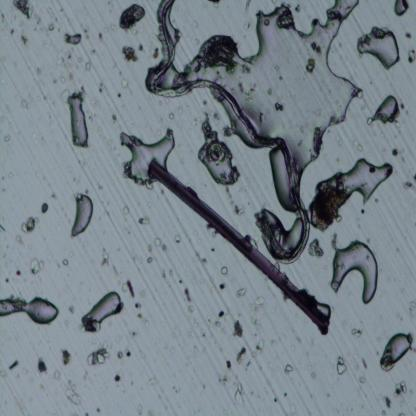Air bubble: (206, 1, 363, 155), (329, 237, 379, 304), (116, 129, 170, 186), (332, 159, 392, 209), (195, 122, 240, 184), (356, 25, 402, 70), (0, 293, 59, 323), (82, 289, 123, 323), (68, 90, 91, 147), (379, 333, 414, 367), (70, 193, 95, 239), (370, 92, 402, 126), (65, 28, 82, 46), (394, 0, 410, 18)
Background material: (204, 35, 237, 72), (119, 3, 146, 30), (63, 380, 83, 409), (89, 344, 112, 367), (56, 45, 76, 67), (275, 10, 296, 30), (15, 1, 34, 22), (308, 239, 324, 261), (120, 45, 139, 63), (236, 82, 254, 100), (392, 381, 409, 399), (334, 356, 349, 376), (235, 382, 247, 406), (29, 256, 45, 274), (22, 216, 37, 235), (324, 9, 343, 23), (98, 246, 110, 267), (232, 318, 244, 338), (47, 6, 60, 24), (251, 338, 264, 356), (18, 26, 29, 47), (125, 279, 136, 300), (249, 306, 260, 326), (181, 284, 193, 302), (34, 14, 45, 33), (235, 346, 246, 365), (231, 201, 244, 217), (61, 349, 72, 367), (349, 325, 363, 339), (38, 357, 48, 375), (235, 286, 248, 299), (255, 110, 267, 124), (407, 46, 416, 64), (60, 88, 70, 104), (218, 279, 229, 293), (0, 11, 8, 30), (254, 296, 266, 308), (225, 186, 233, 204), (217, 372, 227, 386), (135, 216, 150, 225), (273, 101, 285, 112), (389, 145, 400, 157), (310, 41, 321, 53), (19, 99, 32, 109), (122, 203, 132, 216), (284, 363, 294, 376), (152, 45, 160, 61), (220, 262, 229, 276), (382, 394, 391, 408), (83, 27, 91, 42), (8, 360, 18, 372), (192, 252, 204, 262), (306, 60, 316, 72), (40, 202, 50, 214), (4, 130, 13, 143), (361, 357, 369, 371), (121, 76, 129, 90), (356, 374, 366, 385), (404, 180, 414, 191), (75, 54, 82, 69), (112, 263, 120, 276), (0, 220, 7, 234), (289, 404, 297, 416), (218, 308, 226, 320), (95, 180, 103, 192), (91, 98, 99, 110), (226, 358, 234, 370), (208, 0, 220, 8), (0, 365, 7, 378), (34, 80, 44, 89), (47, 22, 56, 32), (186, 304, 195, 314), (206, 315, 214, 326), (14, 233, 22, 244), (68, 249, 76, 260), (404, 29, 412, 40), (111, 112, 119, 123), (67, 303, 75, 314), (293, 2, 301, 13), (36, 384, 47, 392), (242, 20, 251, 29), (58, 73, 66, 83), (124, 348, 132, 358), (154, 236, 162, 246), (97, 82, 103, 95), (137, 405, 144, 416), (306, 362, 314, 371), (7, 26, 15, 35), (68, 70, 74, 82), (136, 43, 145, 51), (55, 370, 64, 378), (108, 23, 117, 31), (174, 234, 181, 244), (245, 360, 251, 371), (200, 327, 206, 338), (84, 367, 89, 380), (245, 0, 250, 13), (34, 68, 42, 76), (297, 126, 305, 134), (146, 256, 154, 264), (168, 113, 176, 121), (8, 14, 17, 21), (172, 384, 178, 394), (176, 106, 182, 116), (147, 244, 153, 254), (86, 63, 92, 73), (296, 335, 304, 342), (135, 302, 142, 310), (122, 284, 129, 292), (51, 192, 58, 200), (212, 112, 219, 120), (6, 170, 13, 178), (266, 87, 273, 95), (15, 268, 22, 276), (114, 375, 122, 382), (168, 267, 173, 278), (290, 343, 296, 352), (42, 93, 48, 102), (117, 350, 123, 359), (107, 136, 112, 146), (98, 31, 103, 41), (52, 77, 59, 84), (139, 290, 146, 297), (129, 29, 136, 36), (161, 242, 167, 250), (274, 62, 280, 70), (341, 318, 347, 326), (62, 258, 68, 266), (160, 270, 166, 278), (264, 19, 270, 27), (159, 186, 165, 194), (149, 378, 155, 386), (85, 187, 90, 196), (156, 127, 161, 136), (193, 321, 199, 328), (215, 320, 221, 327), (42, 41, 48, 48), (140, 353, 146, 360), (4, 276, 11, 282), (131, 330, 138, 336), (194, 344, 199, 352), (144, 318, 149, 326), (273, 396, 278, 404), (208, 275, 213, 283), (12, 60, 17, 68), (137, 312, 143, 318), (270, 337, 274, 346), (268, 362, 274, 368), (194, 228, 198, 237), (278, 75, 284, 81), (71, 176, 77, 182), (94, 407, 100, 413), (37, 94, 43, 100), (399, 411, 406, 416), (115, 336, 120, 343), (249, 389, 254, 396), (336, 216, 341, 223), (202, 382, 206, 390), (270, 0, 278, 4), (298, 139, 302, 147), (362, 208, 366, 216), (382, 409, 387, 415), (116, 92, 122, 97), (210, 247, 216, 252), (90, 48, 96, 53), (177, 278, 182, 284), (130, 379, 134, 386), (311, 372, 315, 379), (400, 400, 404, 407), (283, 391, 287, 398), (156, 99, 161, 104), (202, 100, 207, 105), (171, 345, 174, 353), (84, 412, 90, 416), (64, 321, 68, 326), (80, 280, 84, 285), (103, 27, 107, 32), (413, 175, 416, 180), (128, 230, 131, 235)
Cellulose filter fibre: (150, 1, 312, 263)
Microfibre: (148, 162, 332, 334)
